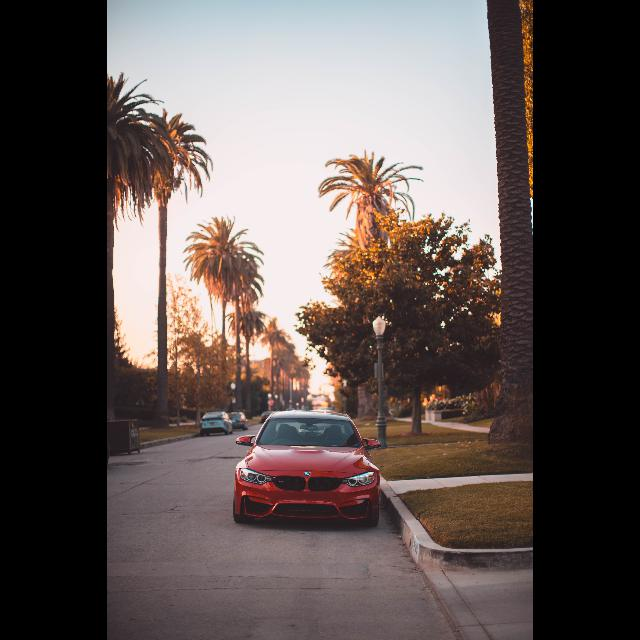cars: (226, 404, 388, 530)
